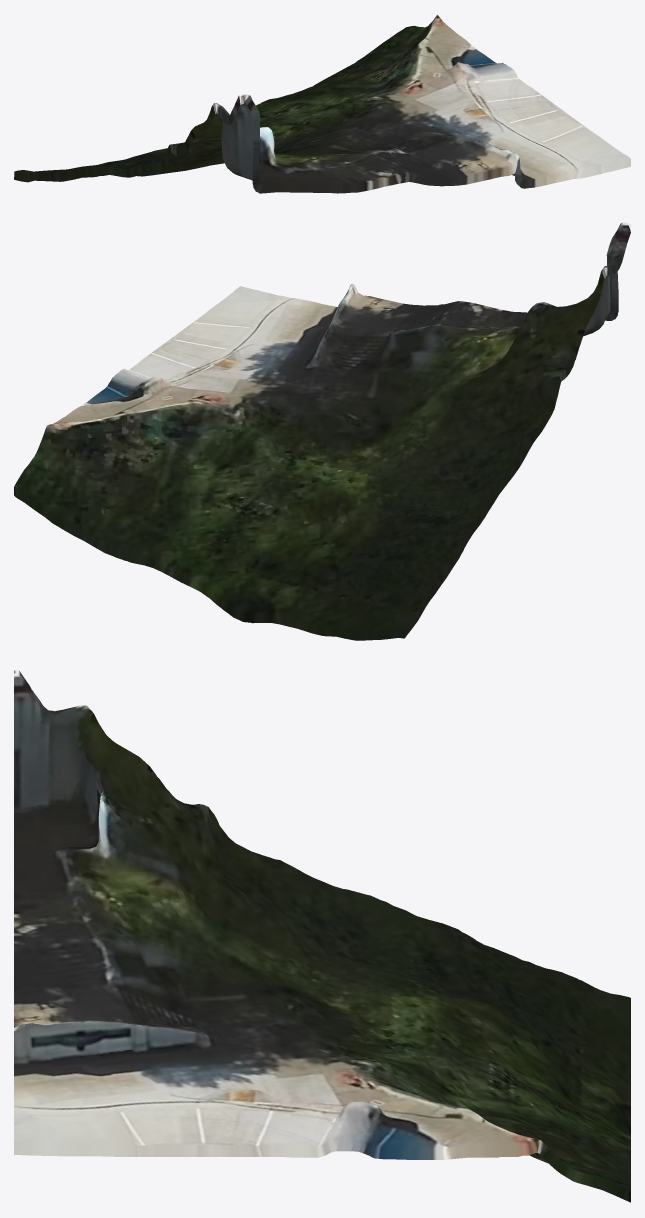
Rendered from z20-167754-405194-h0-yup-uvflip-v3-world.glb.
The picture shows the model from 3 angles, top to bottom: view 1: azimuth 30°, elevation 25°; view 2: azimuth 150°, elevation 25°; view 3: azimuth 270°, elevation 25°; orthographic projection. The views are drawn at different scales.
Size of the model in its own units: 30.2 by 20.12 by 30.32.
Materials: 1 (1 with a texture image).
